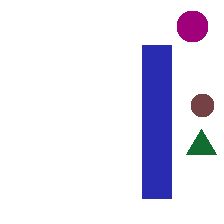circle: (177, 11, 207, 41), (191, 94, 213, 116)
rectangle: (142, 45, 171, 198)
triangle: (186, 129, 216, 154)
